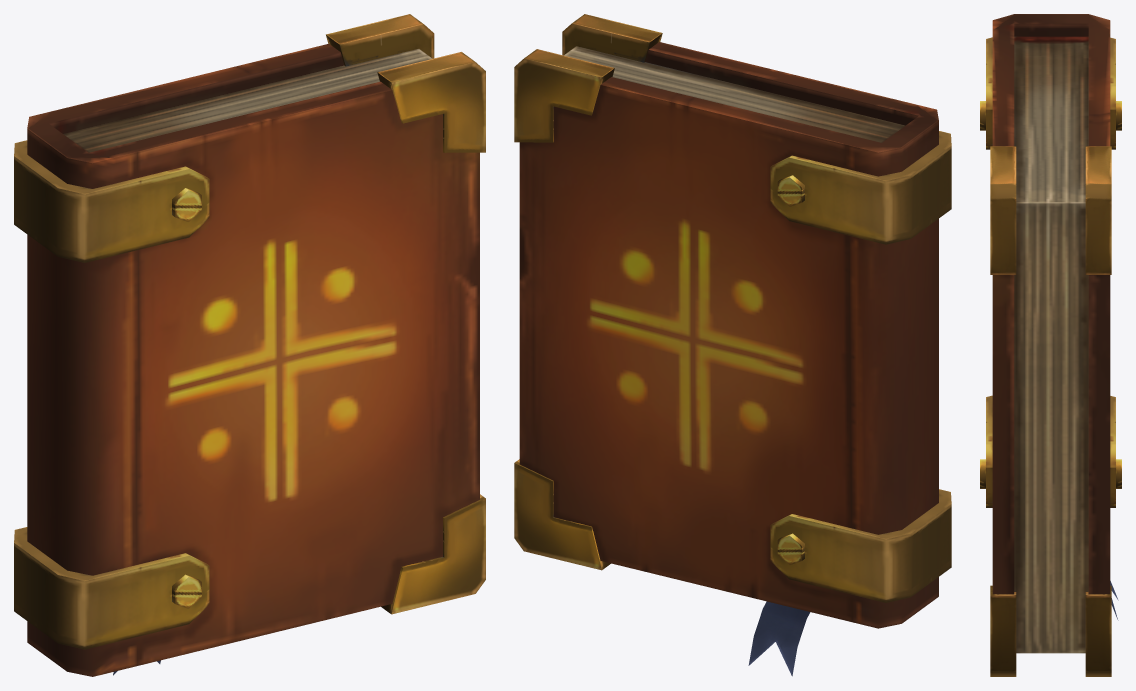
File: 12_book.FBX
3 renders of one model, left to right at view 1: azimuth 30°, elevation 25°; view 2: azimuth 150°, elevation 25°; view 3: azimuth 270°, elevation 25°, orthographic. The views are drawn at different scales.
Visible parts, largest first — view 1: 12_book; view 2: 12_book; view 3: 12_book.
Boxes of the visible parts, x1,y1,x2,y2 form: 12_book: [14, 14, 485, 676]; 12_book: [514, 14, 951, 676]; 12_book: [980, 14, 1121, 676].
Size of the model in its own units: 40.4 by 54.89 by 12.85.
